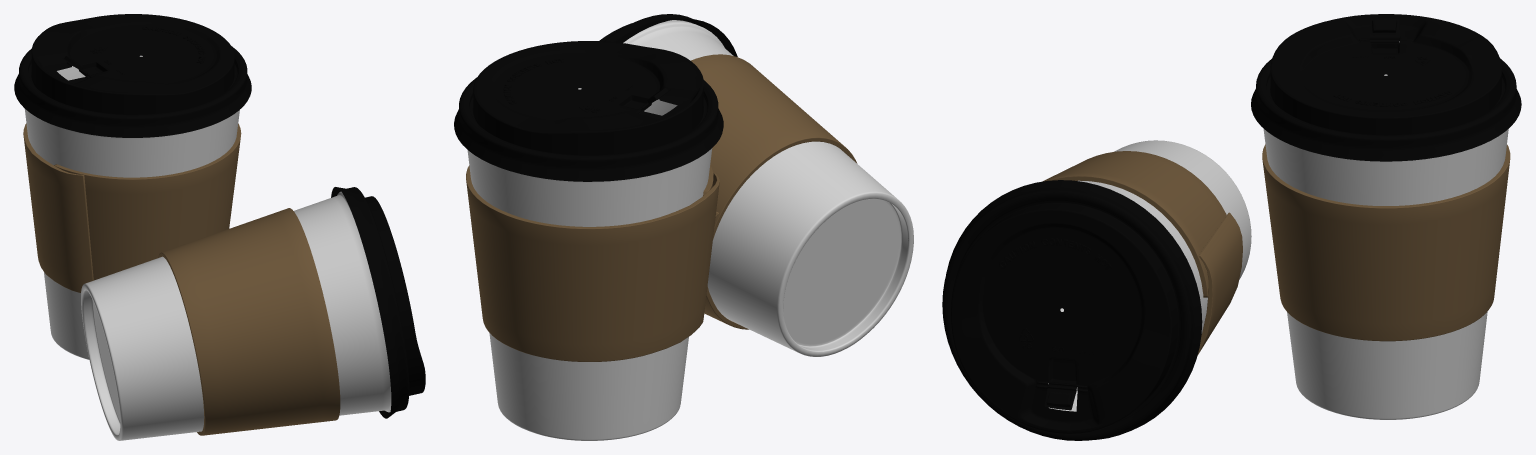
The model's file is CoffeeCup 1.fbx.
The picture shows the model from 3 angles, left to right: view 1: azimuth 30°, elevation 25°; view 2: azimuth 150°, elevation 25°; view 3: azimuth 270°, elevation 25°; orthographic projection. The views are drawn at different scales.
Parts seen in each view (by area): view 1: Circle.007_Circle.010, Circle.008_Circle.011, Circle.001_Circle.006, Circle.005_Circle.198, Circle.000_Circle.197, Circle.006_Circle.009, Circle.061_Circle.063; view 2: Circle.007_Circle.010, Circle.005_Circle.198, Circle.001_Circle.006, Circle.000_Circle.197, Circle.008_Circle.011, Circle.006_Circle.009, Circle.061_Circle.063; view 3: Circle.006_Circle.009, Circle.001_Circle.006, Circle.005_Circle.198, Circle.000_Circle.197, Circle.008_Circle.011, Circle.007_Circle.010, Circle.009_Circle.012, Circle.010_Circle.013, Circle.002, Circle.061_Circle.063.
Boxes of the visible parts, x1,y1,x2,y2 form: Circle.007_Circle.010: (81,191,391,440); Circle.008_Circle.011: (158,208,340,435); Circle.001_Circle.006: (14,14,251,137); Circle.005_Circle.198: (23,123,241,292); Circle.000_Circle.197: (24,55,239,359); Circle.006_Circle.009: (331,187,425,418); Circle.061_Circle.063: (90,26,205,74); Circle.007_Circle.010: (623,20,913,356); Circle.005_Circle.198: (466,165,719,361); Circle.001_Circle.006: (454,41,723,181); Circle.000_Circle.197: (467,88,712,440); Circle.008_Circle.011: (691,54,857,329); Circle.006_Circle.009: (599,14,737,56); Circle.061_Circle.063: (503,58,633,112); Circle.006_Circle.009: (942,180,1202,440); Circle.001_Circle.006: (1251,14,1521,161); Circle.005_Circle.198: (1262,144,1510,341); Circle.000_Circle.197: (1263,41,1508,419); Circle.008_Circle.011: (1042,151,1242,355); Circle.007_Circle.010: (1048,140,1251,411); Circle.009_Circle.012: (999,238,1112,354); Circle.010_Circle.013: (1044,382,1076,410); Circle.002: (1369,18,1399,42); Circle.061_Circle.063: (1333,56,1451,106).
Size of the model in its own units: 943 by 859 by 1367.
